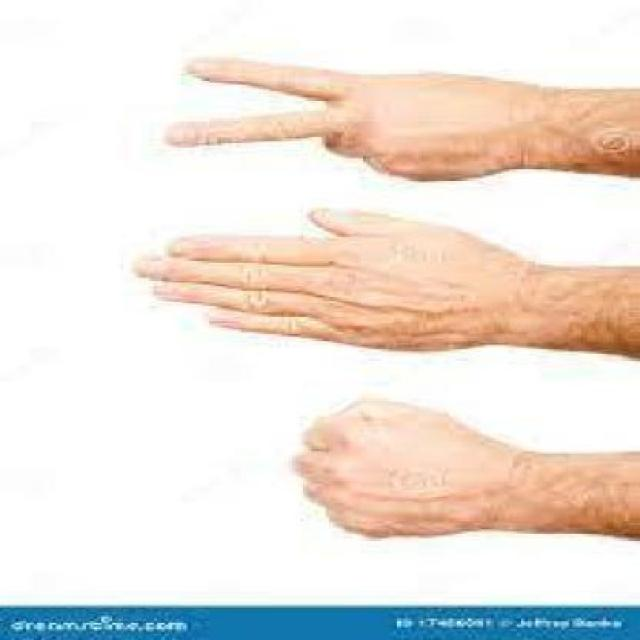Paper: (147, 33, 550, 188)
Rock: (287, 384, 533, 560)
Scissors: (115, 197, 557, 381)
